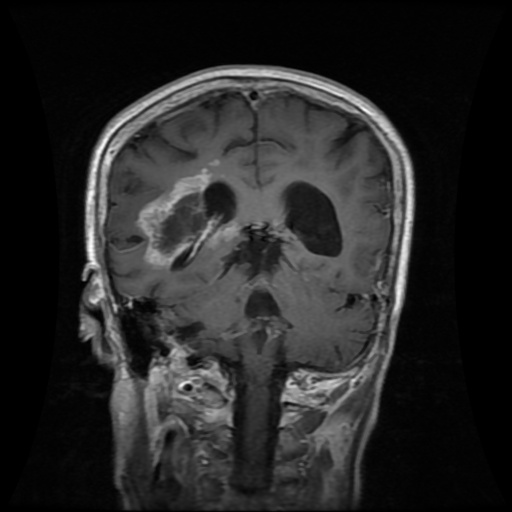glioma: (137, 167, 241, 267)
